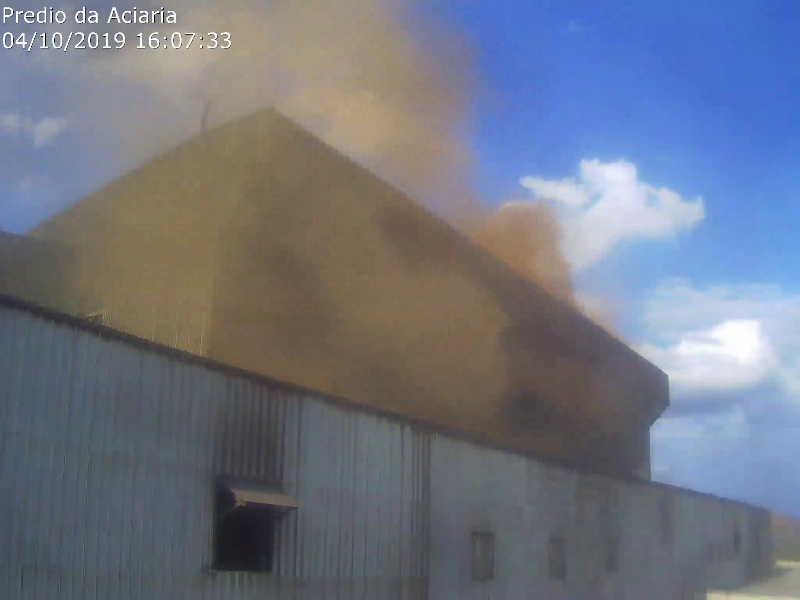pessimo: (99, 4, 466, 393), (277, 46, 597, 425), (362, 42, 629, 358)
